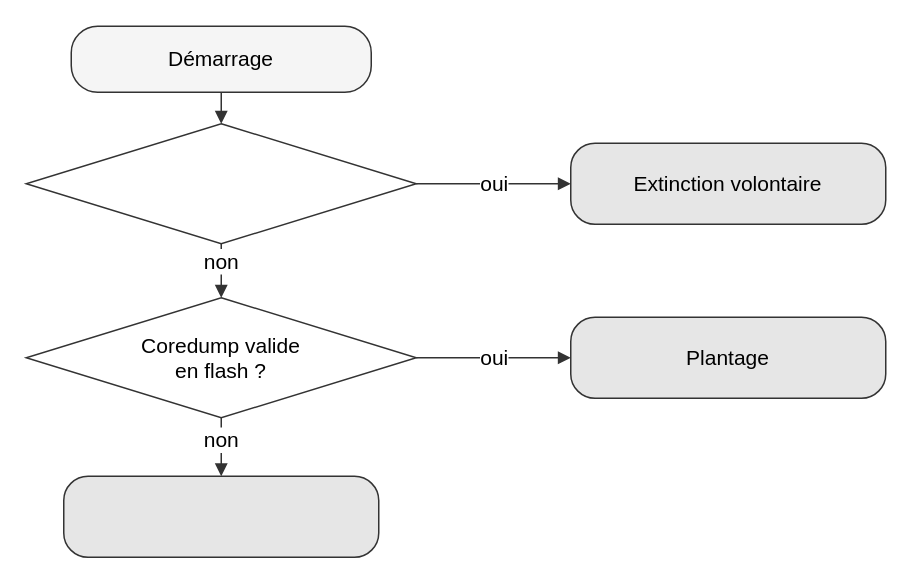
Some shapes in this 912 by 584 pixel diagram are drawn without their labels. The shapes that lost their labels are listed below. From the top down, each one's box as (x1, y1, x2, y2) in pixels, then its label:
(25, 122, 416, 244): Marqueur d'extinction volontaire présent en NVS ?
(62, 475, 379, 557): Perte d'alimentation
